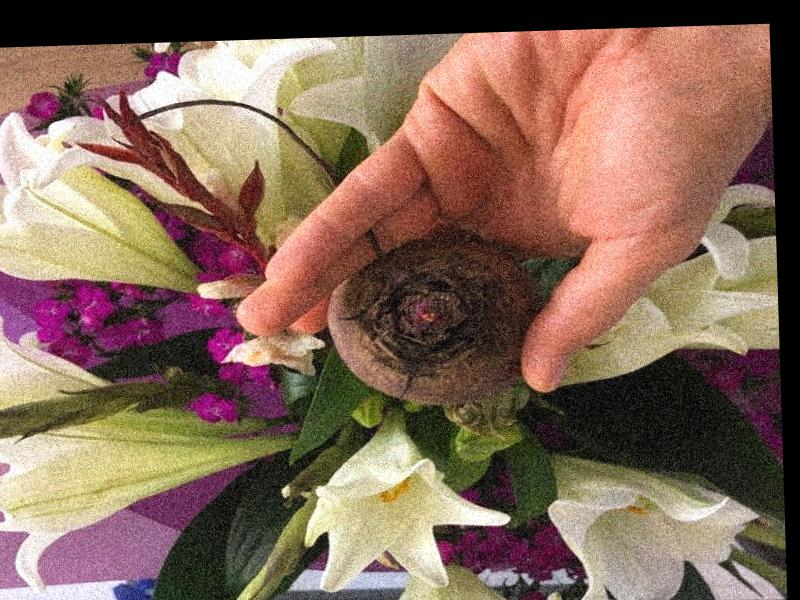Beet: (321, 230, 541, 409)
